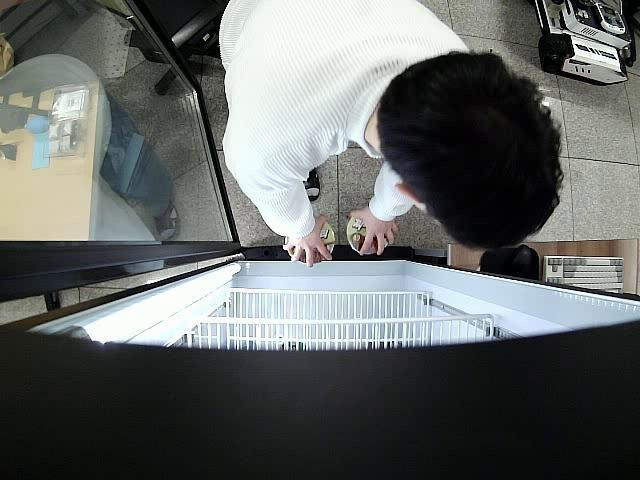03_chapagetti_L: (285, 224, 336, 263), (348, 215, 388, 254)
